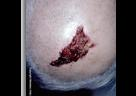NonPU: (47, 25, 98, 69)
